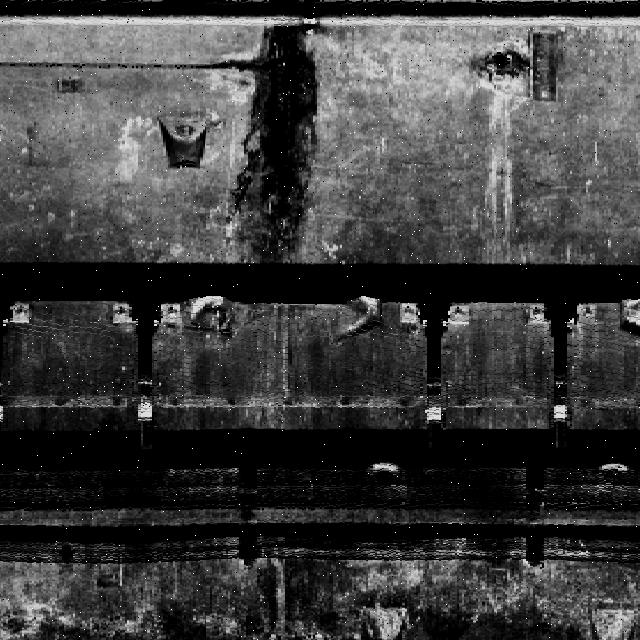leakage: (214, 13, 327, 262)
